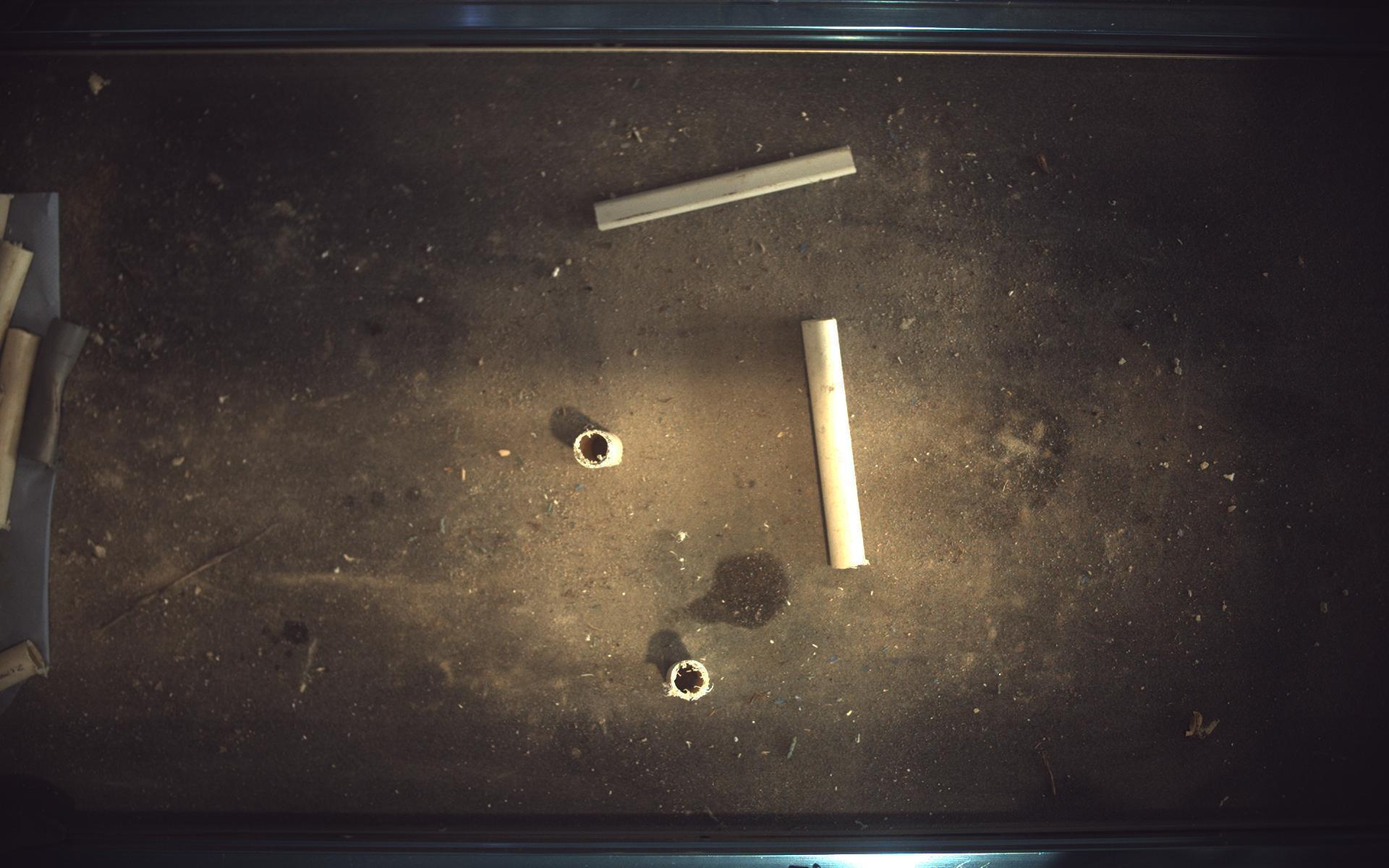pipes: (803, 318, 870, 570), (17, 318, 88, 467), (1, 328, 38, 529), (1, 193, 32, 348), (1, 240, 32, 344), (1, 641, 46, 692), (665, 660, 714, 702), (573, 430, 624, 469)
plastic: (595, 145, 858, 230)
